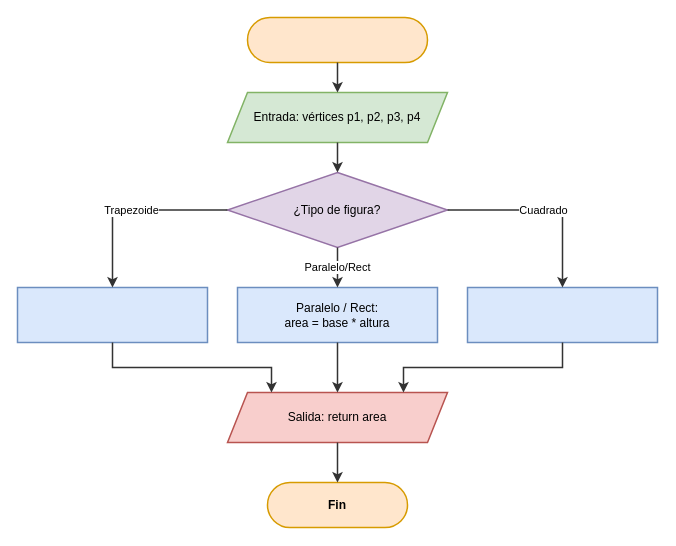
This 676x546 diagram has some shape labels left out. The centre of each missing label's shape, as x and y in pixels:
Cuadrado: area = lado * lado: point 562,314
Inicio calcularArea: point 337,39
Trapezoide: area = ((B + b) * h) / 2: point 112,314
